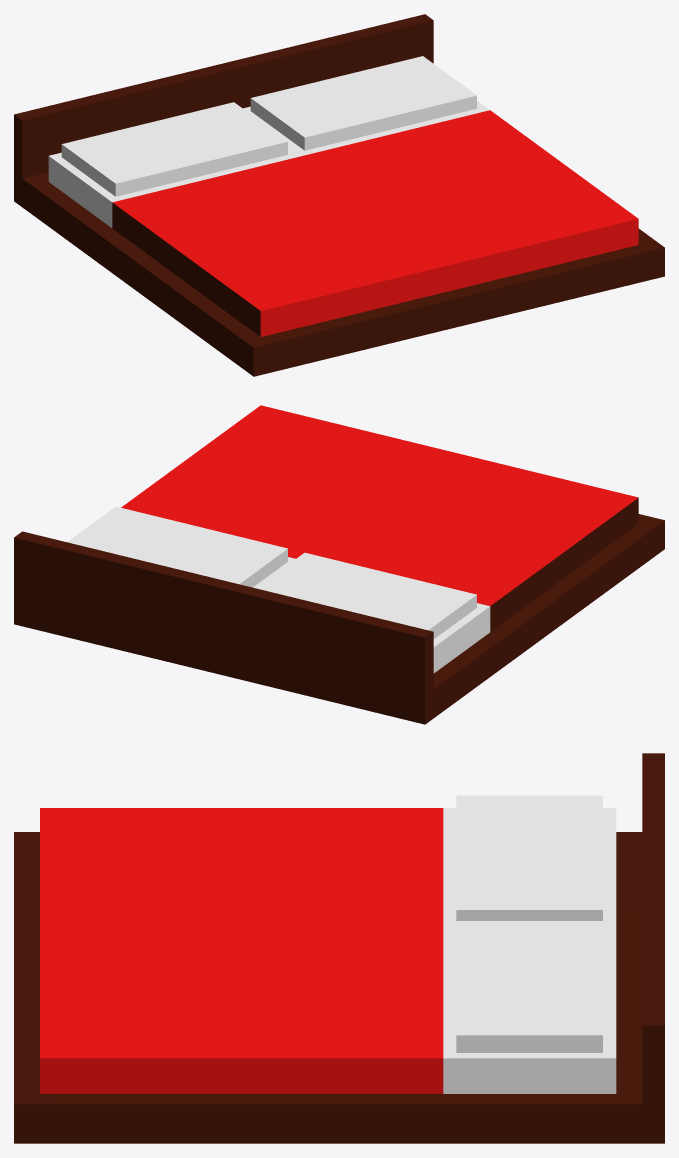
The model's file is Master Bed.fbx.
3 renders of one model, top to bottom at view 1: azimuth 30°, elevation 25°; view 2: azimuth 150°, elevation 25°; view 3: azimuth 270°, elevation 25°, orthographic. The views are drawn at different scales.
Visible parts, largest first — view 1: King size bed; view 2: King size bed; view 3: King size bed.
Part boxes in pixels (x1,y1,x2,y2): King size bed: [14, 14, 664, 376]; King size bed: [14, 405, 664, 724]; King size bed: [14, 753, 664, 1143].
Bounding box in the file's own units: 1.98 × 0.3996 × 2.
